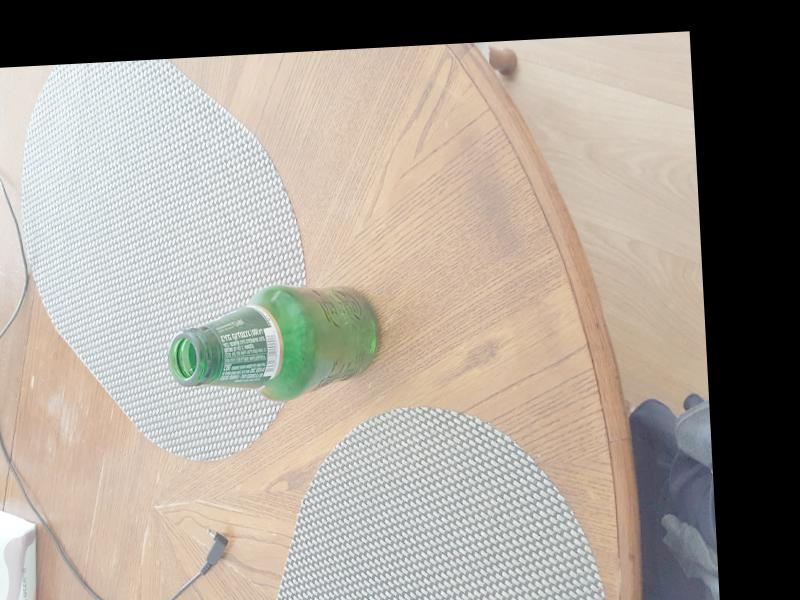Beer: (163, 281, 383, 403)
